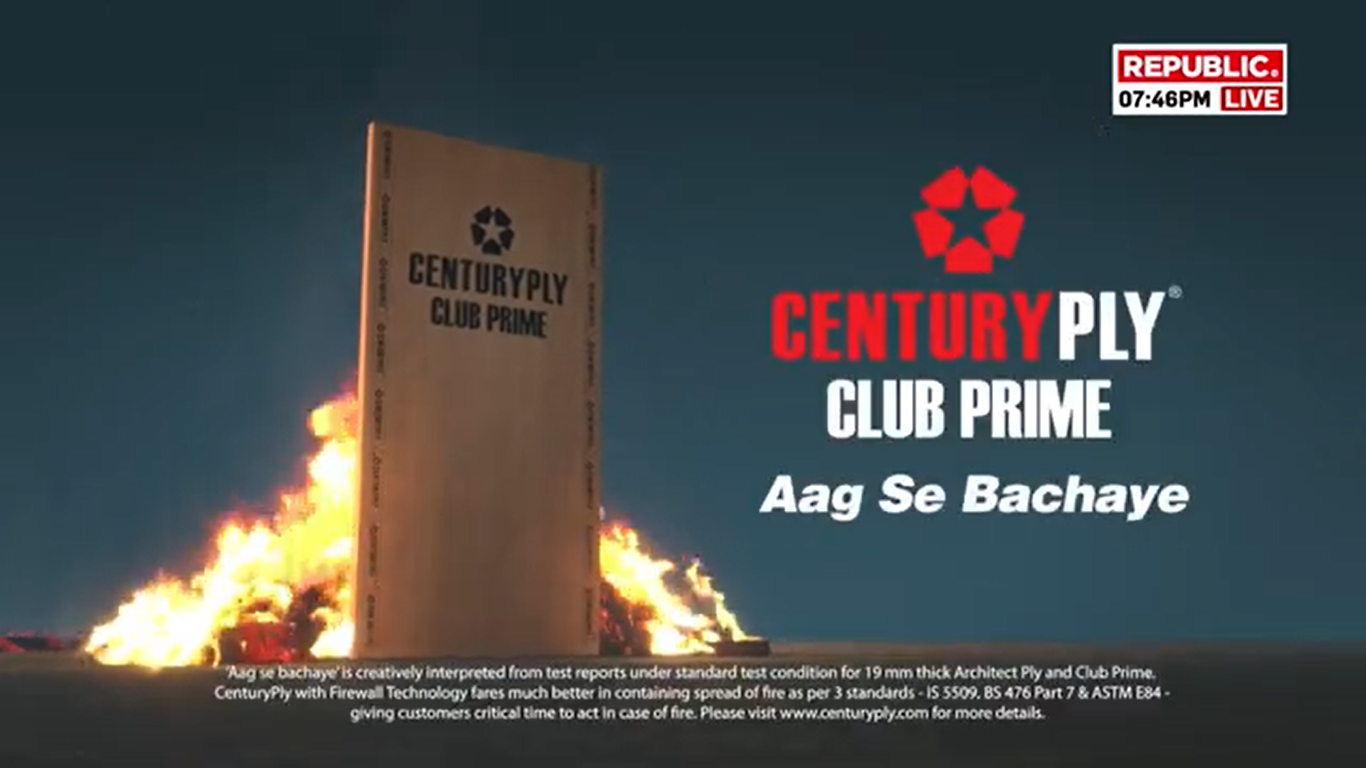centuryPly: (366, 122, 599, 661)
